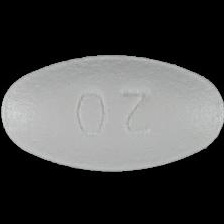0591-3775: (0, 0, 224, 224)
